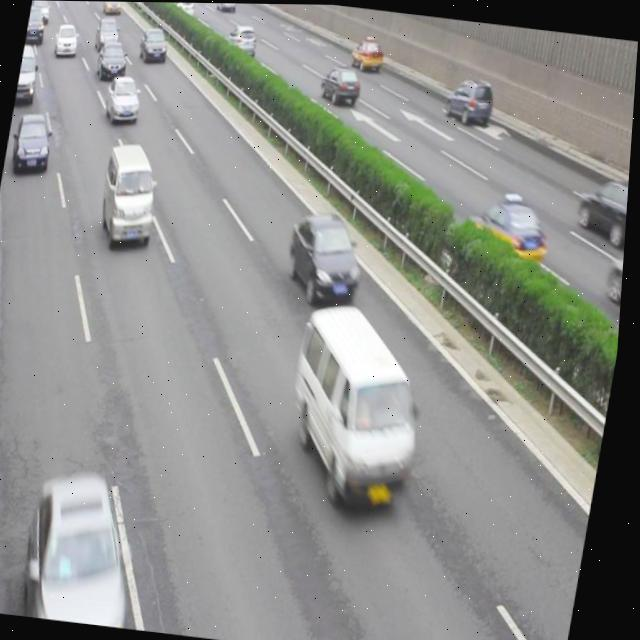car: (26, 464, 157, 628), (284, 205, 371, 304), (462, 191, 554, 268), (572, 171, 631, 244), (441, 71, 498, 128), (11, 109, 57, 176), (101, 71, 146, 130), (318, 62, 364, 112), (94, 37, 131, 81), (349, 33, 386, 73)
truck: (280, 299, 439, 509), (97, 139, 167, 252), (16, 42, 43, 105)
